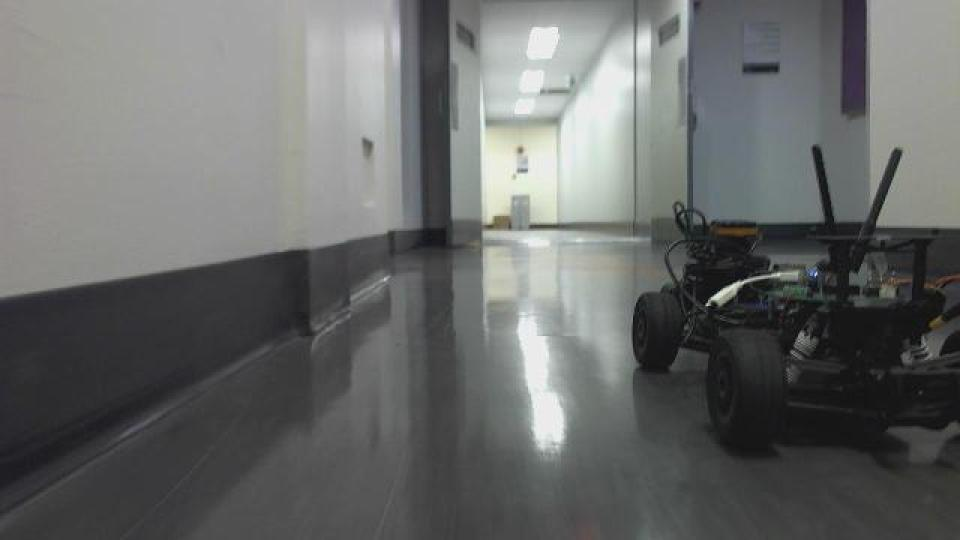car: (627, 141, 957, 455)
